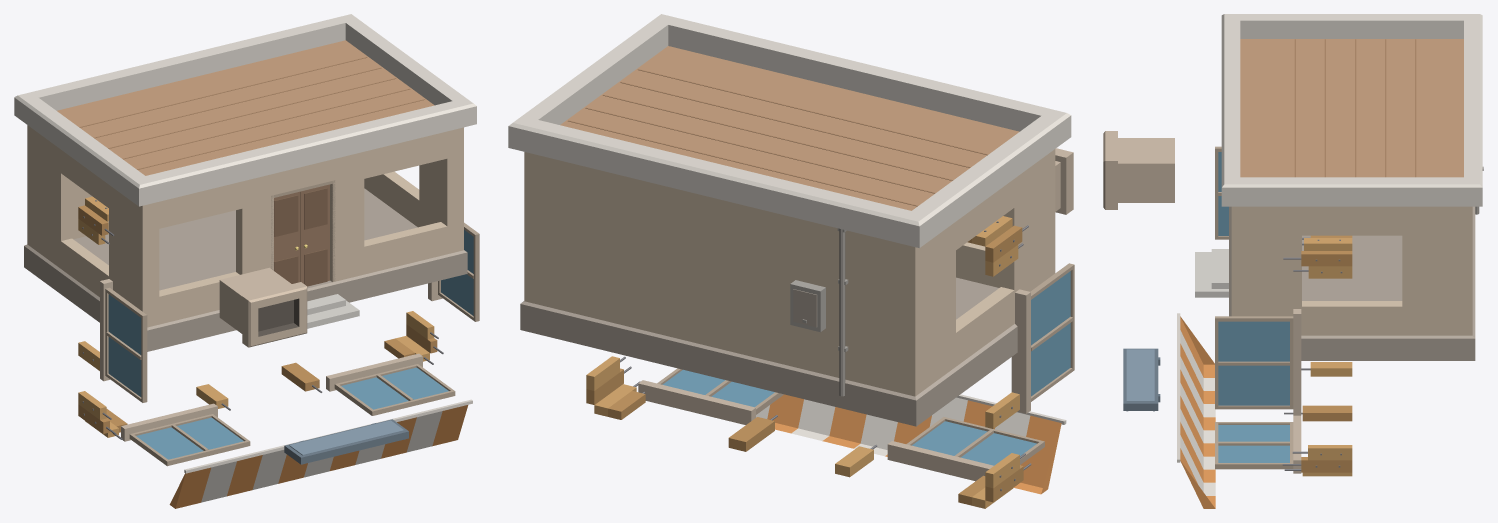
File: clark q1 small store.fbx
The picture shows the model from 3 angles, left to right: view 1: azimuth 30°, elevation 25°; view 2: azimuth 150°, elevation 25°; view 3: azimuth 270°, elevation 25°; orthographic projection. The views are drawn at different scales.
Visible parts, largest first — view 1: Roof_Coping, Roof_Deck, Wall_Front, Base_Plinth, Wall_Left, Chimney_Collar, Wall_Right, Chimney_Shaft, Sign_Face_Back, Wall_Back, Sign_Frame, Door_Leaf_Right (+31 smaller); view 2: Wall_Back, Roof_Coping, Roof_Deck, Base_Plinth, Wall_Left, Wall_Front, Window_Front_Right_Sill, Window_Front_Left_Sill, Awning_Stripe_0, Window_Side_Left_Sill, Window_Side_Left_Glass_R, Window_Side_Left_Glass_L (+19 smaller); view 3: Roof_Deck, Wall_Right, Roof_Coping, Base_Plinth, Chimney_Shaft, Window_Side_Right_Glass_L, Window_Side_Right_Glass_R, Wall_Back, Wall_Front, Sign_Face_Back, Window_Front_Right_Glass_R, Window_Front_Right_Glass_L (+27 smaller).
Part boxes in pixels (<box>): Roof_Coping: <box>14,14,476,206</box>; Roof_Deck: <box>57,40,434,175</box>; Wall_Front: <box>136,127,463,327</box>; Base_Plinth: <box>24,188,467,351</box>; Wall_Left: <box>33,130,135,306</box>; Chimney_Collar: <box>242,282,307,347</box>; Wall_Right: <box>364,160,440,227</box>; Chimney_Shaft: <box>219,267,291,333</box>; Sign_Face_Back: <box>289,420,404,455</box>; Wall_Back: <box>27,125,108,248</box>; Sign_Frame: <box>284,419,408,464</box>; Door_Leaf_Right: <box>300,184,329,283</box>; Wall_Back: <box>524,152,922,396</box>; Roof_Coping: <box>508,14,1071,247</box>; Roof_Deck: <box>560,46,1019,210</box>; Base_Plinth: <box>520,277,1017,426</box>; Wall_Left: <box>923,155,1047,390</box>; Wall_Front: <box>956,149,1055,287</box>; Window_Front_Right_Sill: <box>638,380,755,424</box>; Window_Front_Left_Sill: <box>887,441,993,481</box>; Awning_Stripe_0: <box>1014,415,1061,494</box>; Window_Side_Left_Sill: <box>1011,289,1030,413</box>; Window_Side_Left_Glass_R: <box>1031,271,1070,345</box>; Window_Side_Left_Glass_L: <box>1031,323,1070,396</box>; Roof_Deck: <box>1240,39,1463,177</box>; Wall_Right: <box>1245,206,1459,335</box>; Roof_Coping: <box>1221,14,1482,206</box>; Base_Plinth: <box>1229,206,1475,360</box>; Chimney_Shaft: <box>1118,138,1174,202</box>; Window_Side_Right_Glass_L: <box>1218,365,1289,405</box>; Window_Side_Right_Glass_R: <box>1218,321,1289,361</box>; Wall_Back: <box>1459,206,1472,335</box>; Wall_Front: <box>1231,206,1244,316</box>; Sign_Face_Back: <box>1126,349,1154,401</box>; Window_Front_Right_Glass_R: <box>1218,445,1289,462</box>; Window_Front_Right_Glass_L: <box>1218,425,1289,441</box>.
Size of the model in its own units: 6.14 by 5.57 by 5.69.
